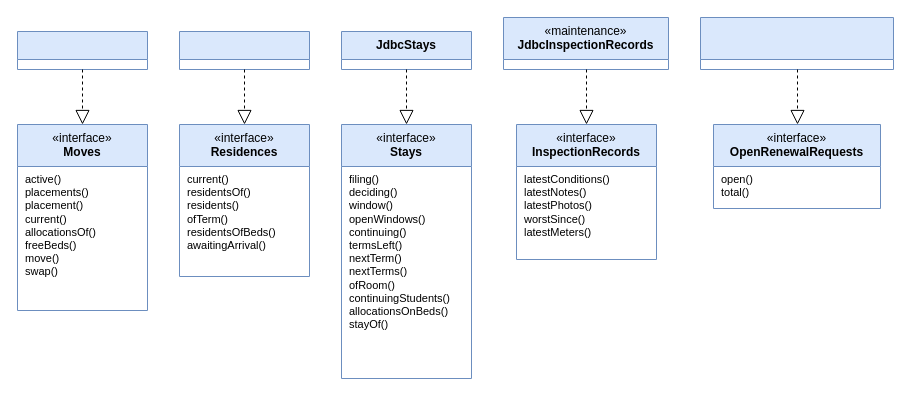
The diagram is 911 pixels wide and 399 high, and some of its shapes have lost their labels. The centre of each missing label's shape, as x and y in pixels:
"JdbcMoves" goes at [82,50].
"JdbcResidences" goes at [244,50].
"«request» JdbcOpenRenewalRequests" goes at [797,43].
